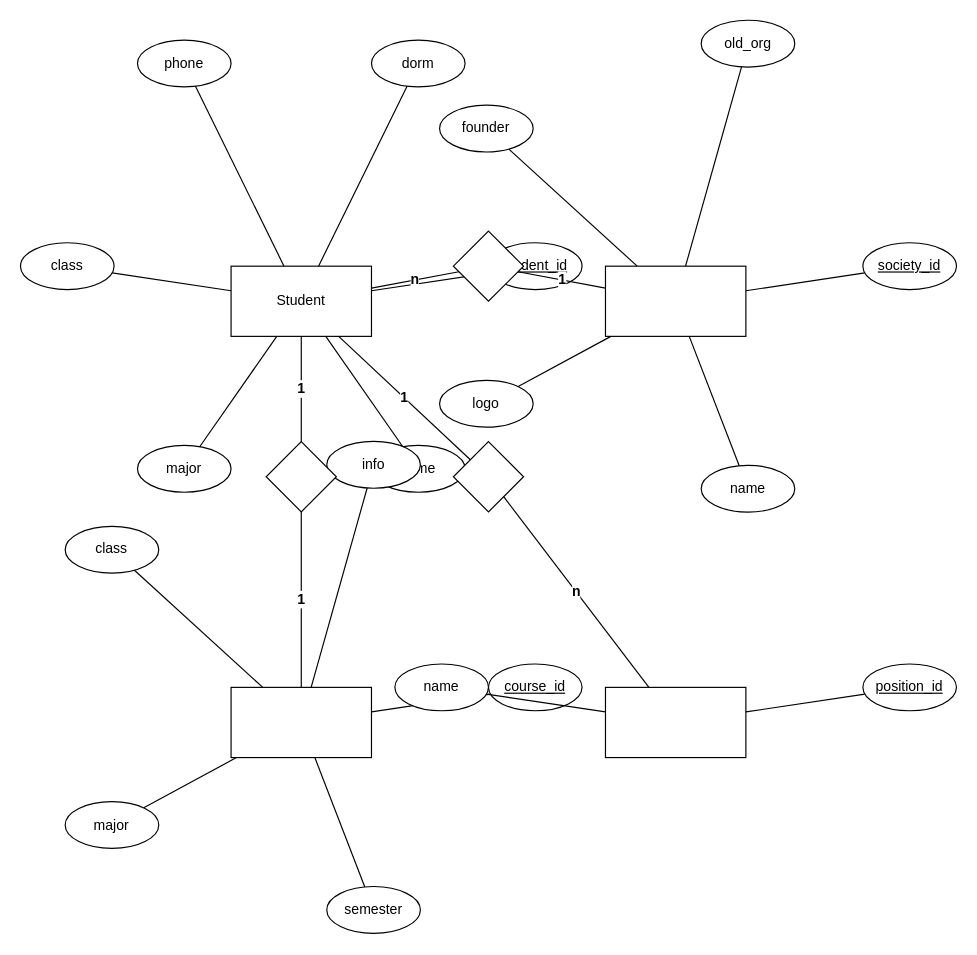
This 977x955 diagram has some shape labels left out. The box of each missing label's shape, as (x1, y1, x2, y2) in pixels:
belongs_to: (452, 441, 524, 512)
Course: (230, 686, 371, 758)
has: (265, 441, 336, 512)
joins: (452, 230, 524, 301)
Position: (604, 686, 746, 758)
Society: (604, 265, 746, 336)
